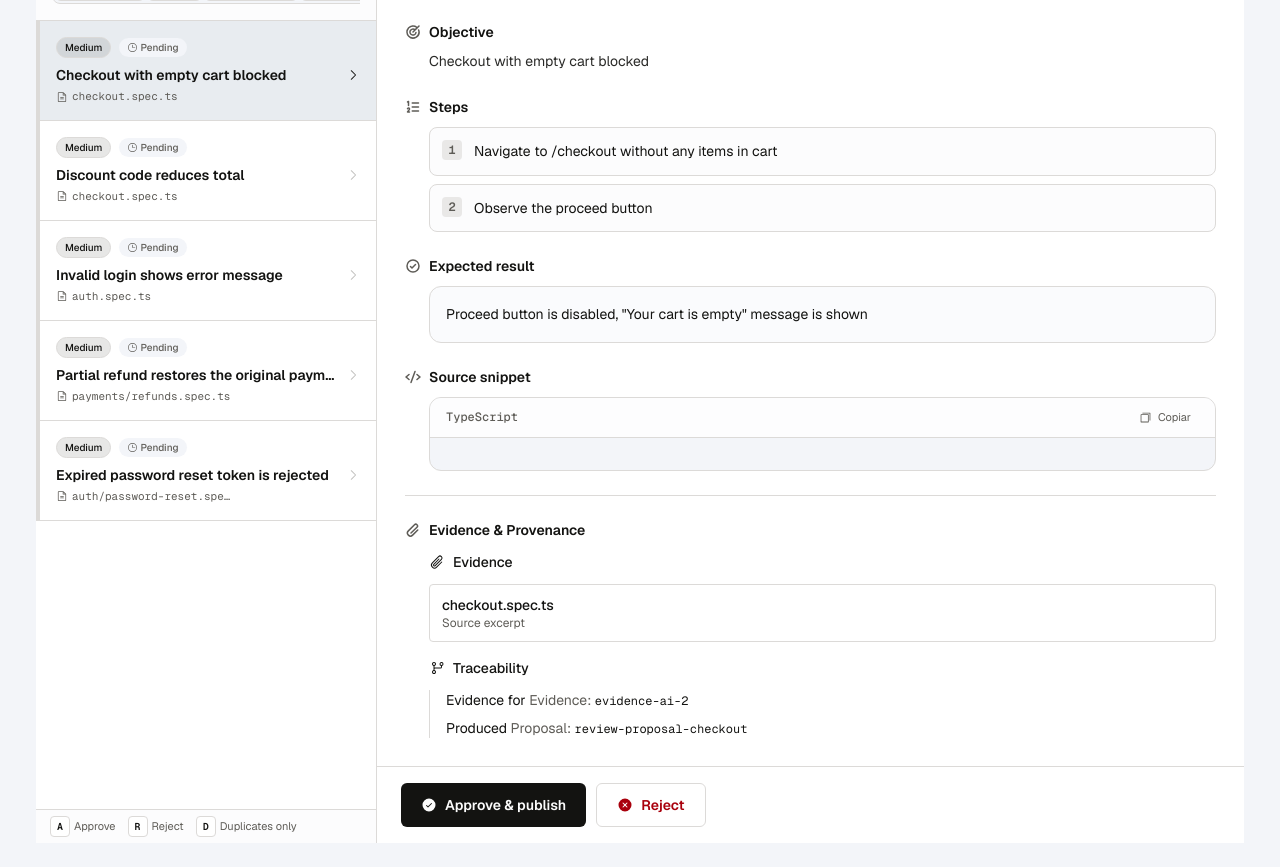
Test case: ReviewInboxPage › approves a proposal when clicking Approve & publish
This screenshot has width=1280, height=867.
(page scrolled)
Click the button "Approve & publish": (494, 805) [401,783,586,827]
(page scrolled)
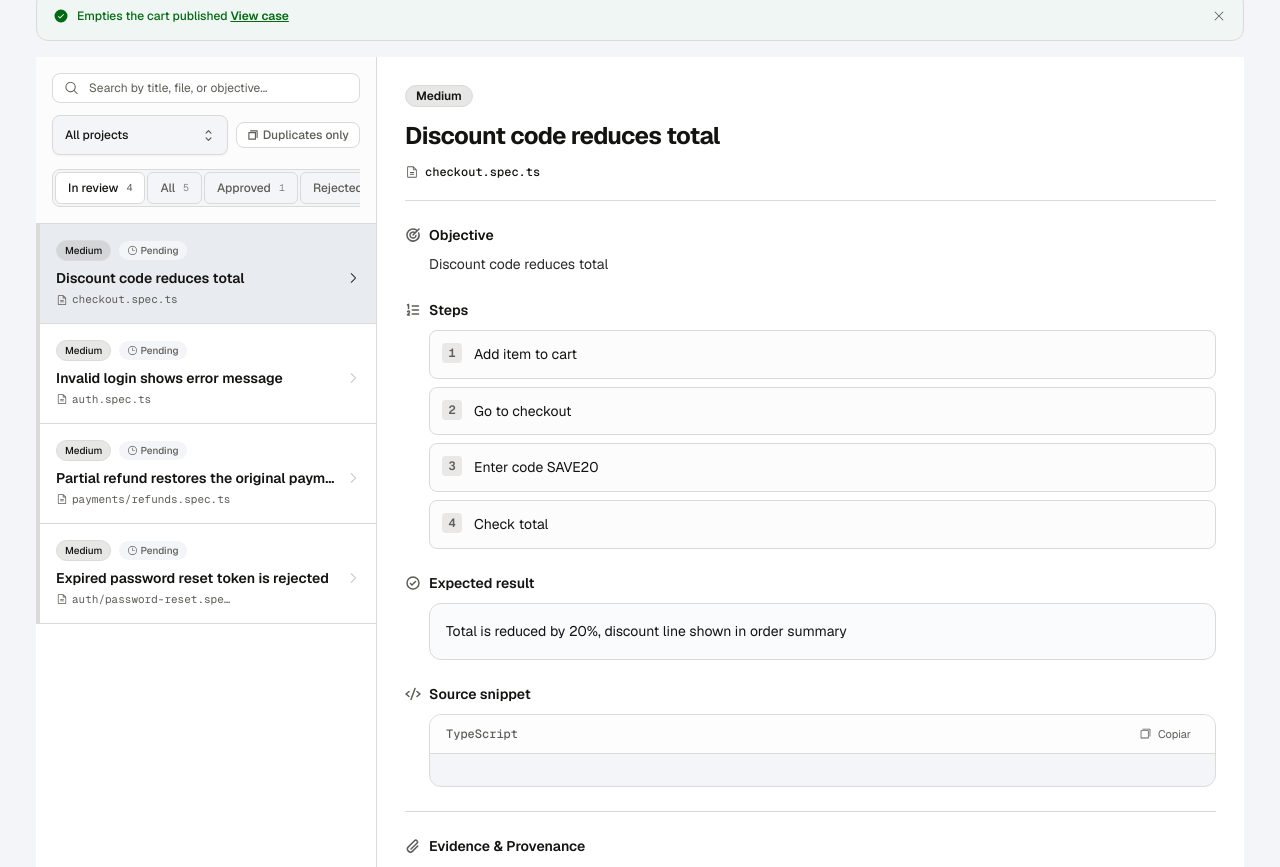
Expected: the message shows "Empties the cart published", [77,8,228,24]
